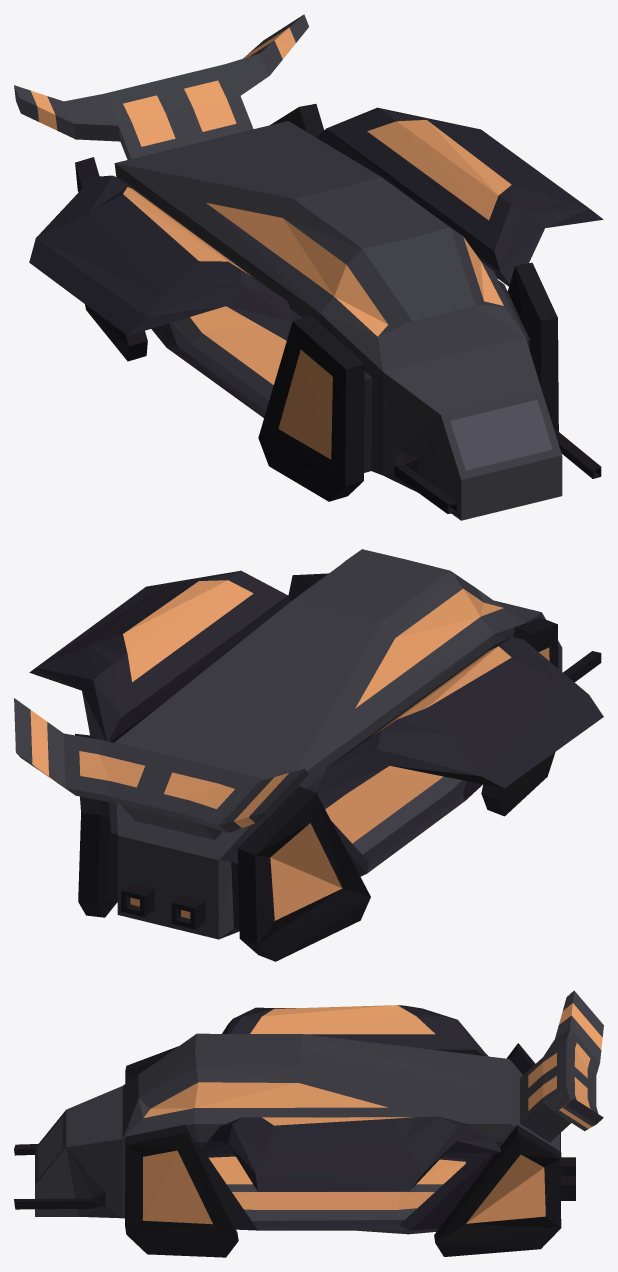
File: AirPlane.fbx
The picture shows the model from 3 angles, top to bottom: view 1: azimuth 30°, elevation 25°; view 2: azimuth 150°, elevation 25°; view 3: azimuth 270°, elevation 25°; orthographic projection. The views are drawn at different scales.
Parts seen in each view (by area): view 1: Cube.015; view 2: Cube.015; view 3: Cube.015.
Part boxes in pixels (<box>): Cube.015: <box>14,14,603,520</box>; Cube.015: <box>14,549,603,961</box>; Cube.015: <box>14,990,603,1257</box>.
Bounding box in the file's own units: 2.06 × 0.9161 × 2.89.
